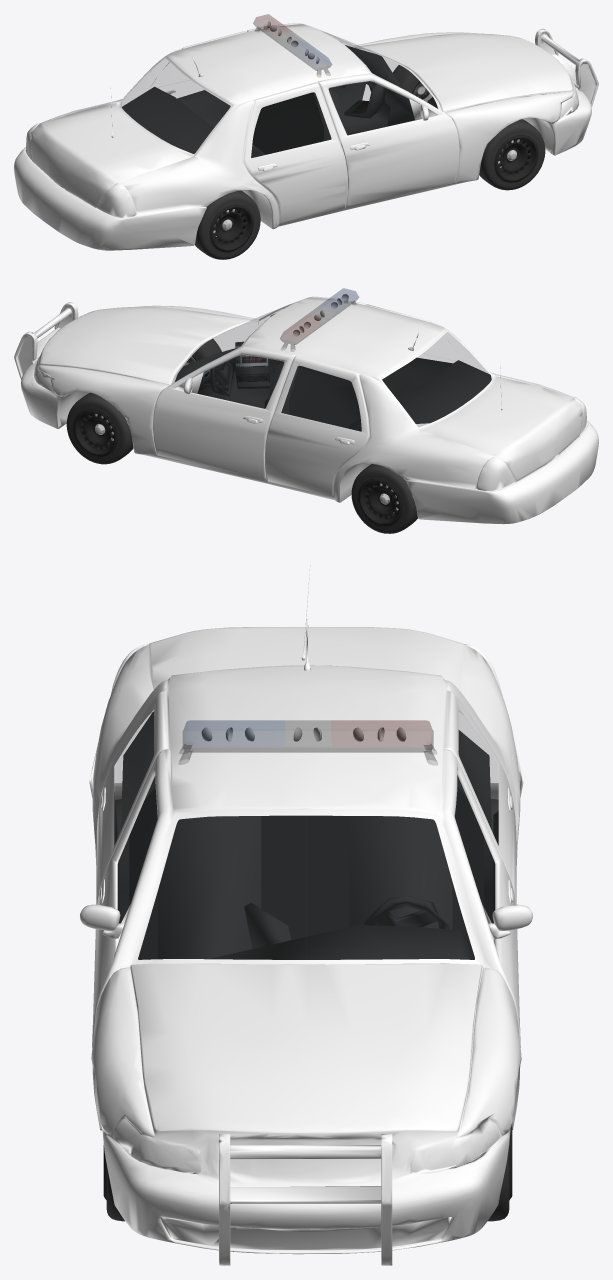
The model's file is copvic.glb.
3 renders of one model, top to bottom at view 1: azimuth 30°, elevation 25°; view 2: azimuth 150°, elevation 25°; view 3: azimuth 270°, elevation 25°, orthographic. The views are drawn at different scales.
Parts seen in each view (by area): view 1: body, spin_FR, spin_RR, spin_FL; view 2: body, spin_FL, spin_RL, spin_FR; view 3: body.
Part boxes in pixels (x1,y1,x2,y2): body: [14, 14, 598, 250]; spin_FR: [479, 119, 545, 190]; spin_RR: [195, 190, 260, 259]; spin_FL: [393, 65, 437, 108]; body: [14, 288, 598, 524]; spin_FL: [66, 392, 133, 464]; spin_RL: [351, 464, 417, 533]; spin_FR: [184, 338, 221, 365]; body: [80, 562, 532, 1265].
Bounding box in the file's own units: 5.2 × 1.54 × 1.92.
7 materials, 4 textured.
